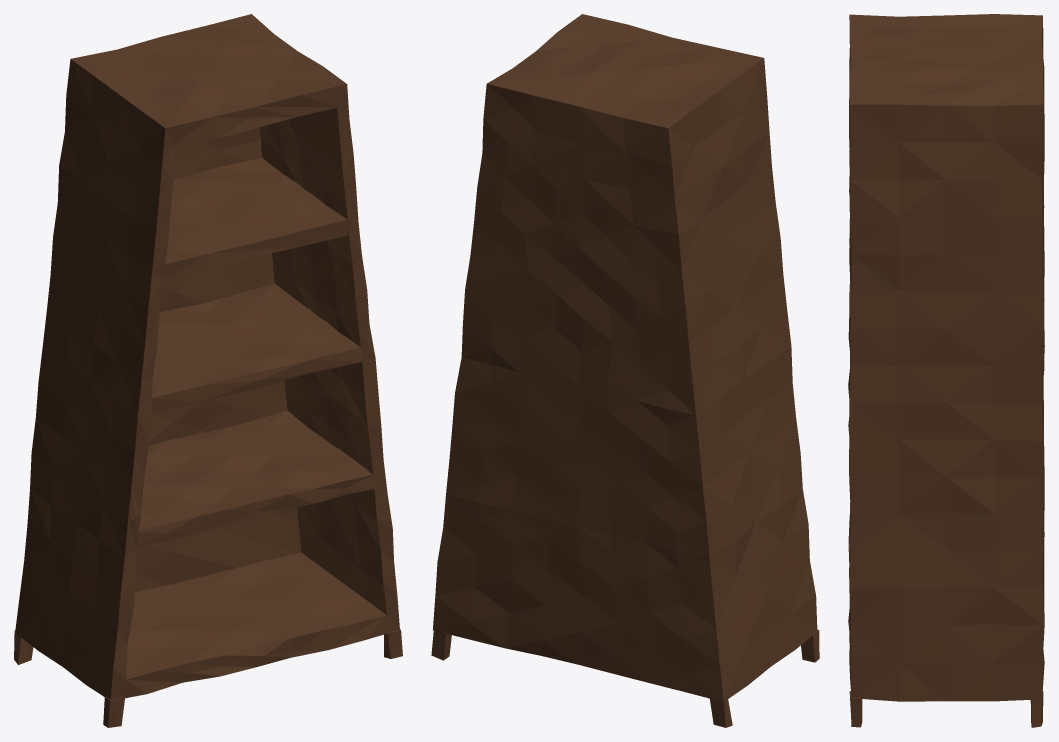
The model's file is livingroom_bookshelf.fbx.
3 renders of one model, left to right at view 1: azimuth 30°, elevation 25°; view 2: azimuth 150°, elevation 25°; view 3: azimuth 270°, elevation 25°, orthographic.
Parts seen in each view (by area): view 1: livingroom_bookshelf; view 2: livingroom_bookshelf; view 3: livingroom_bookshelf.
Boxes of the visible parts, x1,y1,x2,y2 form: livingroom_bookshelf: [14, 14, 402, 727]; livingroom_bookshelf: [431, 14, 819, 727]; livingroom_bookshelf: [848, 14, 1044, 727].
Size of the model in its own units: 103 by 194 by 58.05.
